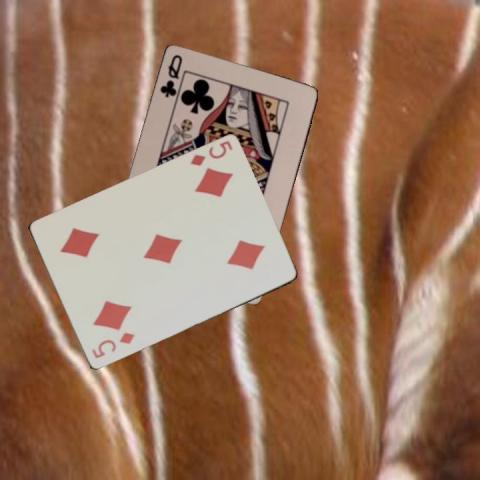5d: (89, 330, 136, 360), (187, 138, 234, 168)
Qc: (157, 52, 184, 99)
